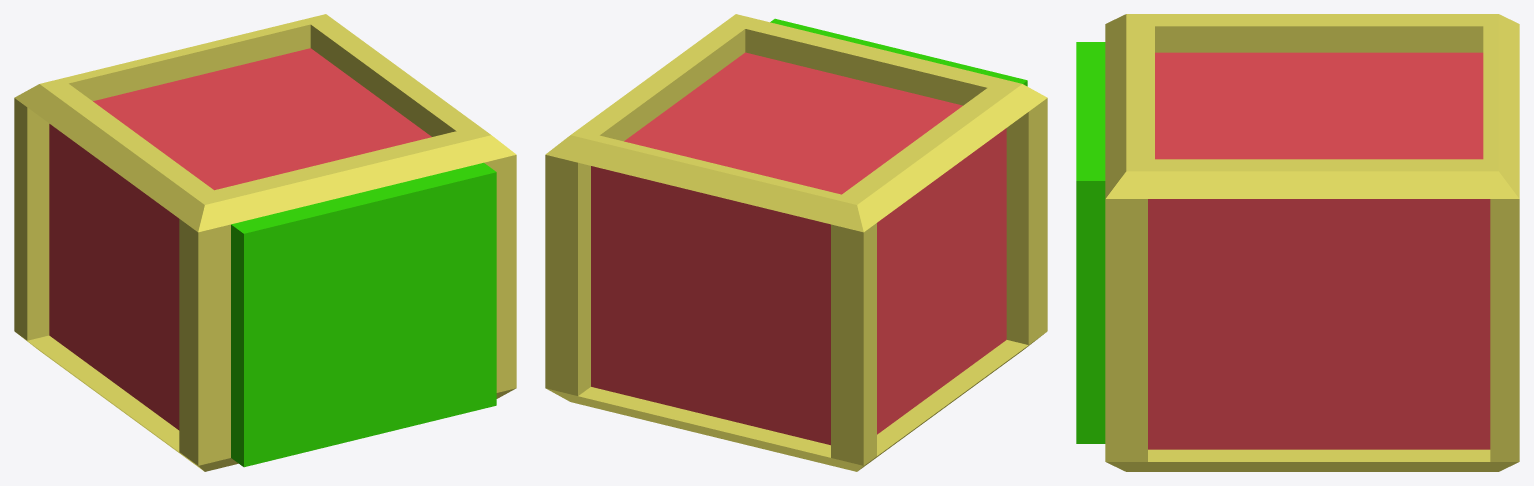
Rendered from ProducerBox.fbx.
3 views of the same model, side by side, from view 1: azimuth 30°, elevation 25°; view 2: azimuth 150°, elevation 25°; view 3: azimuth 270°, elevation 25° (orthographic). The views are drawn at different scales.
Visible parts, largest first — view 1: Cube; view 2: Cube; view 3: Cube.
Boxes of the visible parts, <box> form: Cube: <box>14,14,516,471</box>; Cube: <box>545,14,1047,471</box>; Cube: <box>1076,14,1519,471</box>.
Size of the model in its own units: 100 by 80.07 by 107.
